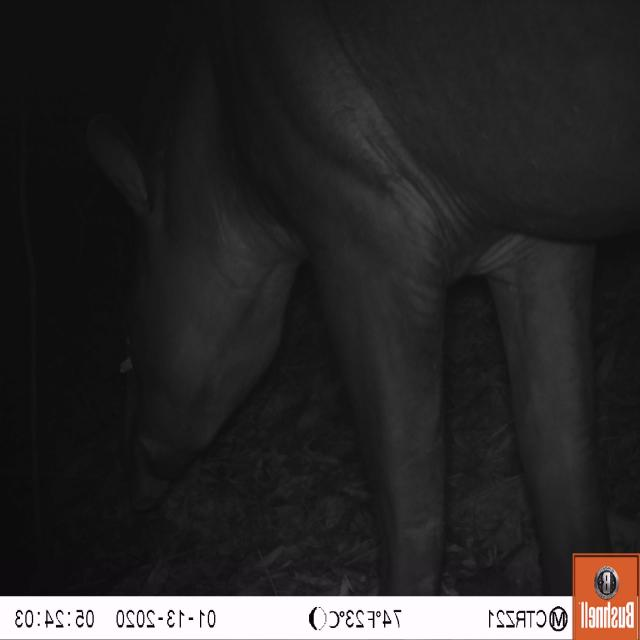Lowland Tapir: (82, 0, 640, 590)
